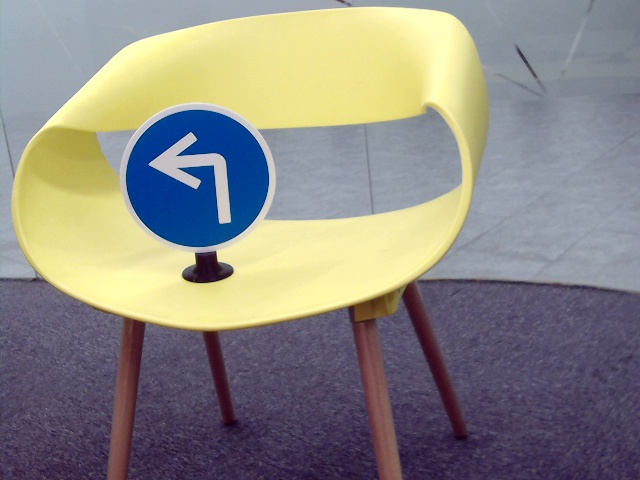turn_left: (147, 134, 241, 223)
